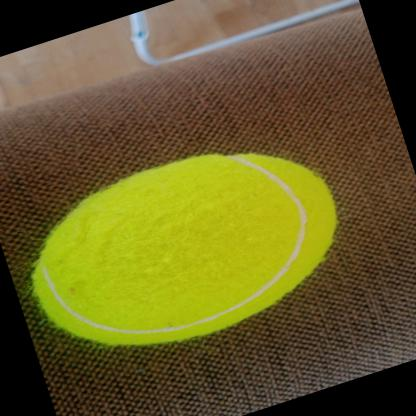Tennis: (0, 110, 374, 390)
